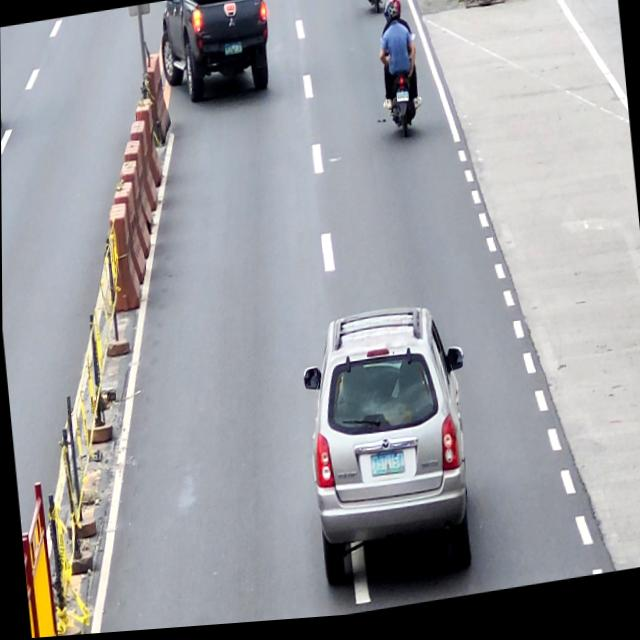Car: (296, 300, 481, 603), (157, 0, 274, 103)
License-Plate: (368, 454, 405, 484), (224, 45, 243, 60), (395, 95, 409, 109)
Motorcycle: (378, 37, 423, 145), (361, 0, 388, 19)
